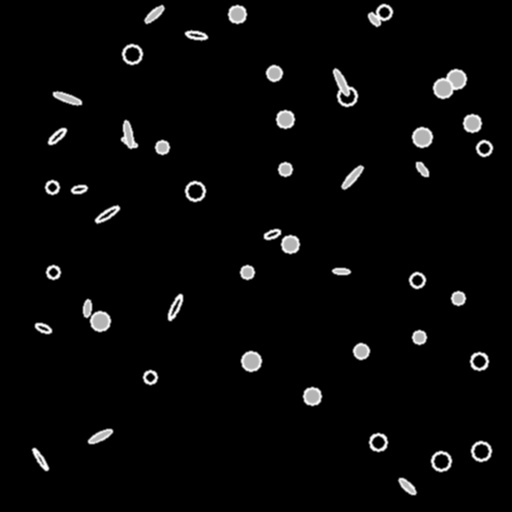pseudomonas: (340, 164, 364, 190), (331, 67, 351, 97), (94, 204, 120, 224), (166, 294, 184, 320), (53, 90, 81, 106), (31, 448, 49, 470), (88, 428, 112, 444), (144, 5, 164, 23), (47, 127, 67, 145), (397, 477, 417, 495), (122, 121, 134, 147), (414, 160, 430, 178), (366, 11, 382, 27), (185, 30, 207, 40), (263, 228, 281, 240), (34, 322, 52, 334), (121, 136, 137, 148), (71, 184, 87, 194), (83, 300, 91, 316), (333, 268, 349, 274)
synechocystis: (338, 87, 356, 105), (242, 352, 260, 370), (123, 45, 141, 63), (91, 312, 109, 330), (447, 70, 465, 88), (186, 182, 204, 200), (472, 442, 490, 460), (434, 79, 452, 97), (413, 128, 431, 146), (432, 452, 450, 470), (282, 236, 298, 252), (464, 115, 480, 131), (471, 353, 487, 369), (304, 388, 320, 404), (277, 111, 293, 127), (370, 434, 386, 450), (229, 6, 245, 22), (267, 66, 281, 80), (477, 141, 491, 155), (410, 273, 424, 287), (377, 5, 391, 19), (354, 344, 368, 358), (241, 266, 253, 278), (452, 292, 464, 304), (46, 181, 58, 193), (47, 266, 59, 278), (144, 371, 156, 383), (413, 331, 425, 343), (279, 163, 291, 175), (156, 141, 168, 153)
